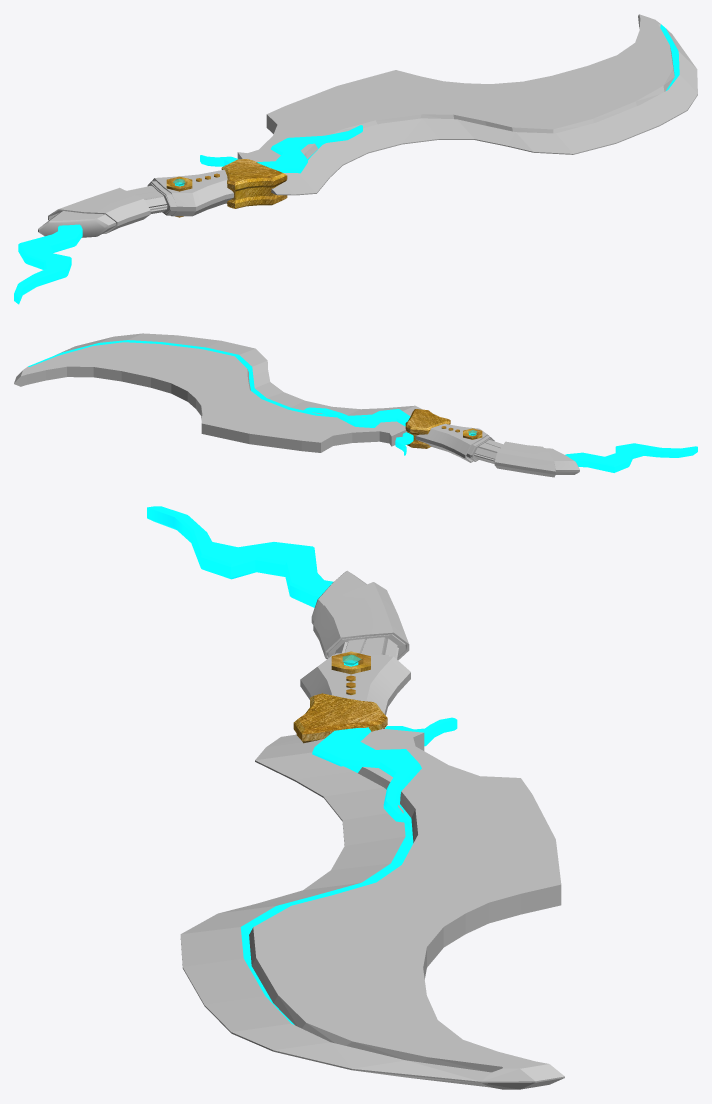
The model's file is Sword Finished.fbx.
3 views of the same model, one above another, from view 1: azimuth 30°, elevation 25°; view 2: azimuth 150°, elevation 25°; view 3: azimuth 270°, elevation 25° (orthographic). The views are drawn at different scales.
Parts seen in each view (by area): view 1: Plane004, Plane006, Plane003, Plane007, Plane008, Plane002, Plane009; view 2: Plane004, Plane006, Plane007, Plane008, Plane009, Plane002, Plane003, Plane010; view 3: Plane004, Plane006, Plane007, Plane009, Plane008, Plane003, Plane002.
Part boxes in pixels (left/top/right/bottom): Plane004: left=237, top=14, right=697, bottom=195; Plane006: left=14, top=224, right=82, bottom=304; Plane003: left=221, top=159, right=287, bottom=208; Plane007: left=48, top=181, right=176, bottom=233; Plane008: left=152, top=169, right=233, bottom=216; Plane002: left=38, top=183, right=170, bottom=237; Plane009: left=257, top=125, right=362, bottom=173; Plane004: left=14, top=333, right=422, bottom=452; Plane006: left=565, top=443, right=697, bottom=472; Plane007: left=466, top=435, right=555, bottom=477; Plane008: left=415, top=423, right=488, bottom=462; Plane009: left=302, top=407, right=410, bottom=427; Plane002: left=471, top=438, right=579, bottom=474; Plane003: left=405, top=409, right=450, bottom=448; Plane010: left=395, top=432, right=413, bottom=455; Plane004: left=180, top=728, right=564, bottom=1089; Plane006: left=147, top=506, right=333, bottom=607; Plane007: left=313, top=582, right=409, bottom=660; Plane009: left=312, top=727, right=421, bottom=828; Plane008: left=300, top=654, right=410, bottom=715; Plane003: left=293, top=693, right=387, bottom=743; Plane002: left=311, top=570, right=405, bottom=659.
Bounding box in the file's own units: 176 × 8.15 × 54.6.
